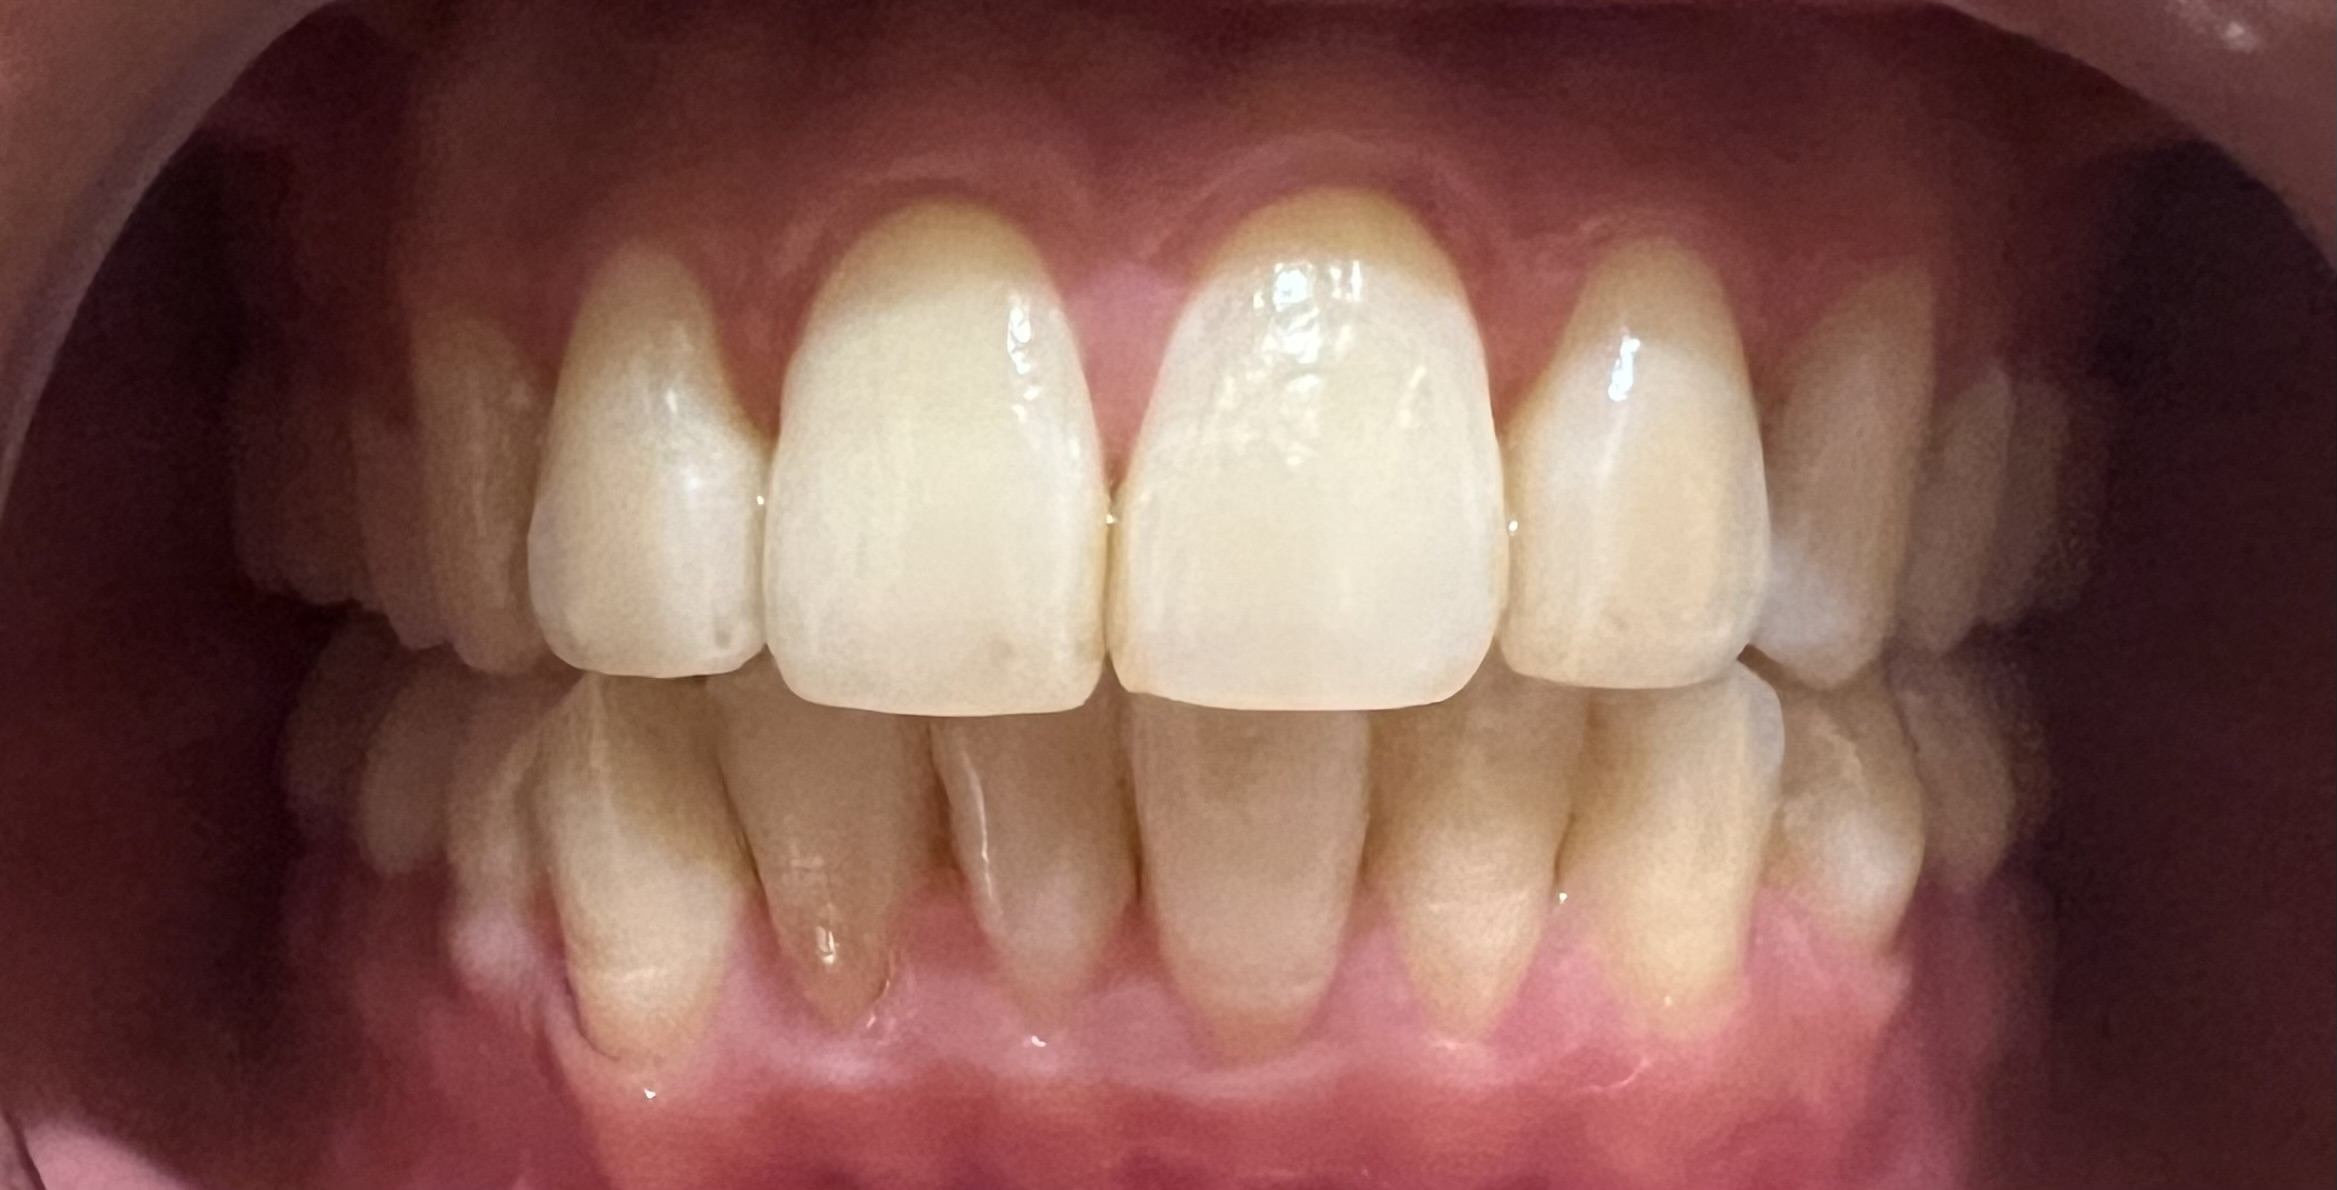teeth: (1123, 214, 1505, 691), (778, 211, 1103, 694), (1502, 264, 1768, 663), (540, 253, 769, 653), (546, 675, 747, 1067), (1134, 726, 1364, 1043), (712, 697, 917, 1022), (1782, 272, 1930, 680), (1587, 703, 1782, 1014), (1395, 703, 1577, 1008), (936, 719, 1138, 984), (417, 310, 542, 663), (1795, 697, 1924, 959), (1918, 660, 2041, 882), (234, 352, 331, 595), (279, 624, 399, 818), (1921, 384, 1997, 648), (344, 420, 436, 636), (449, 689, 546, 891), (355, 669, 436, 862), (2002, 390, 2053, 619)
